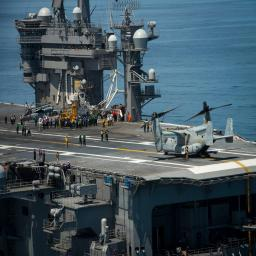Portanaves: (2, 8, 253, 253)
